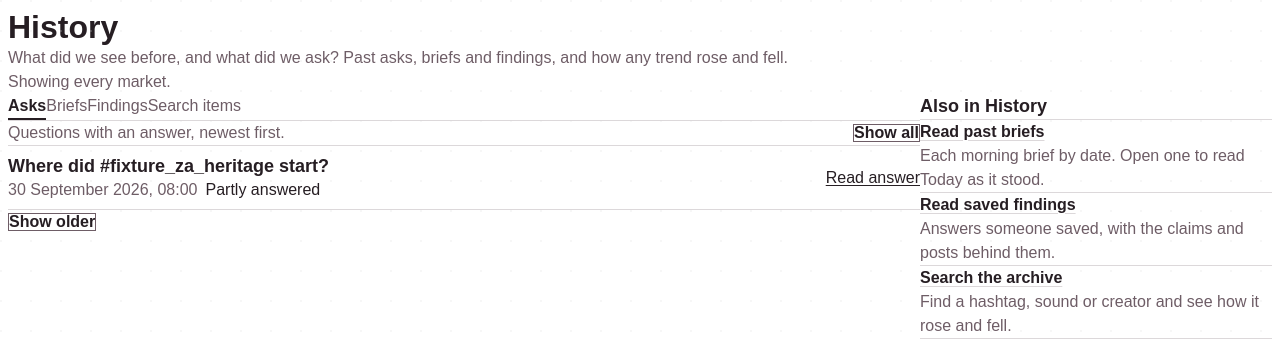
a malformed Finding shows why its saved answer is unavailable
Click the tab "Findings" at (117, 107), box [87, 94, 148, 120]
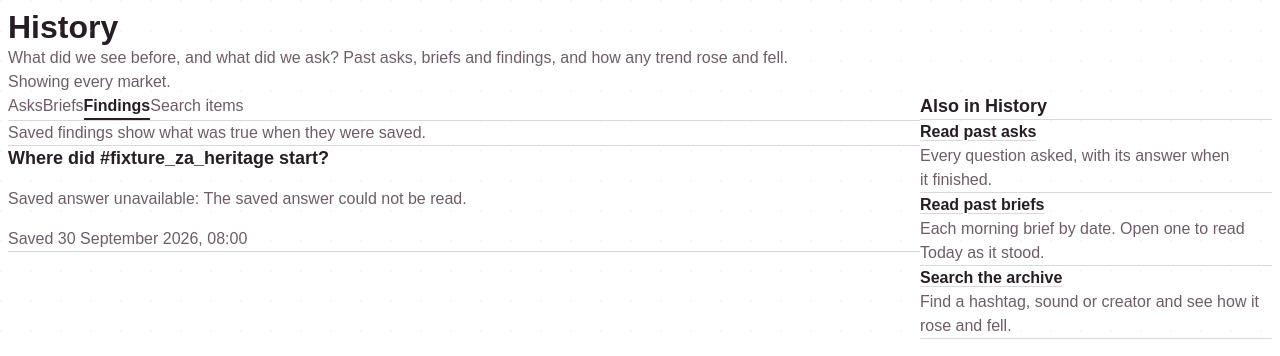
Now the list item that starts with "Where did #fixture_za_heritage start?" shows "The saved answer could not be read.", box [8, 190, 467, 207]
